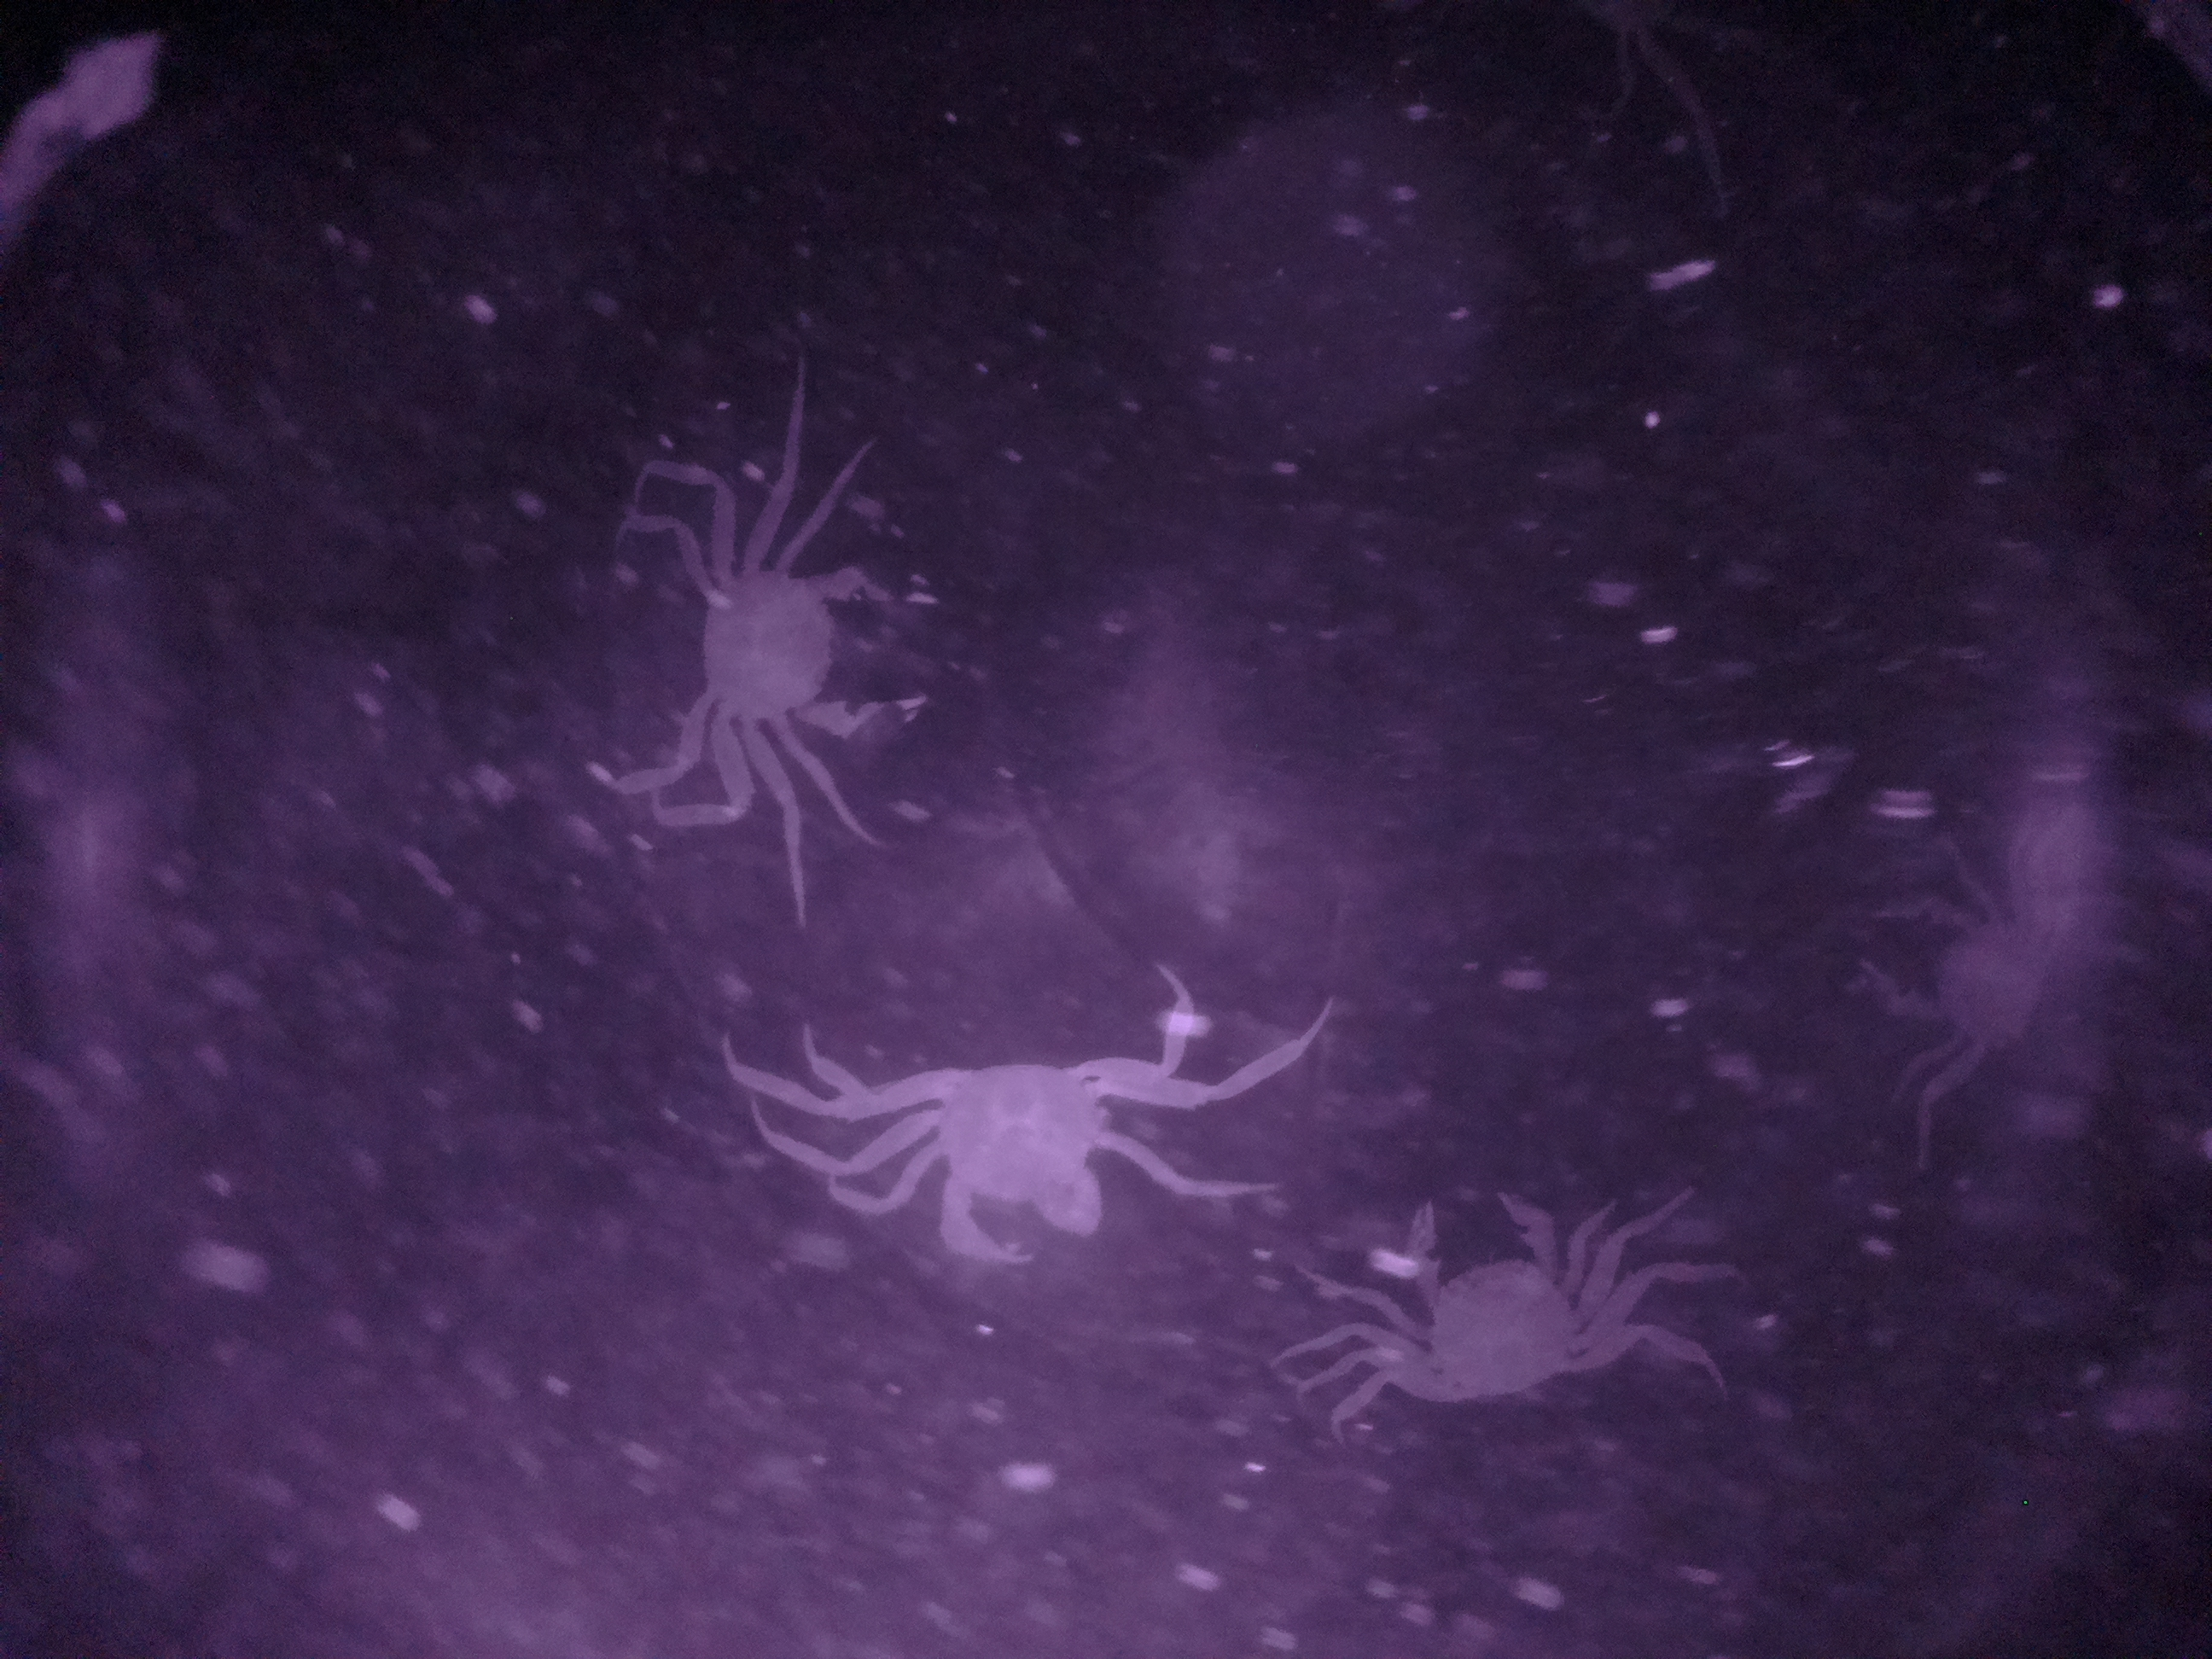Crab: (660, 530, 991, 786), (885, 1021, 1144, 1281), (1360, 1182, 1616, 1424)
